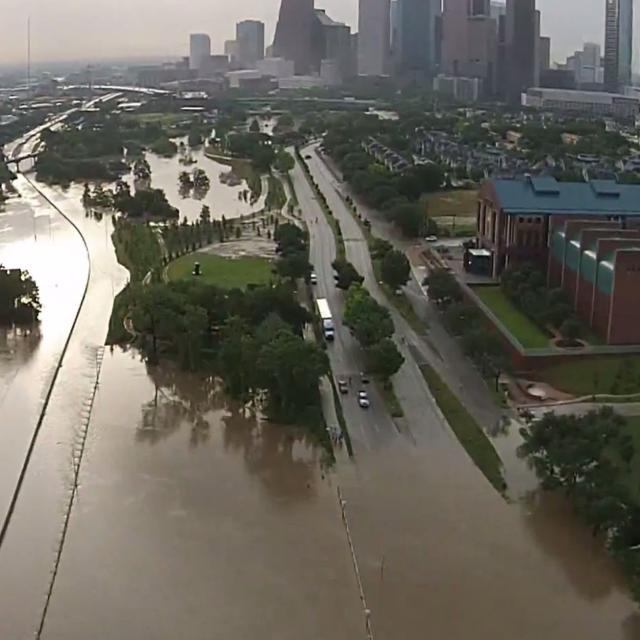flooded_areas: (2, 148, 528, 636)
